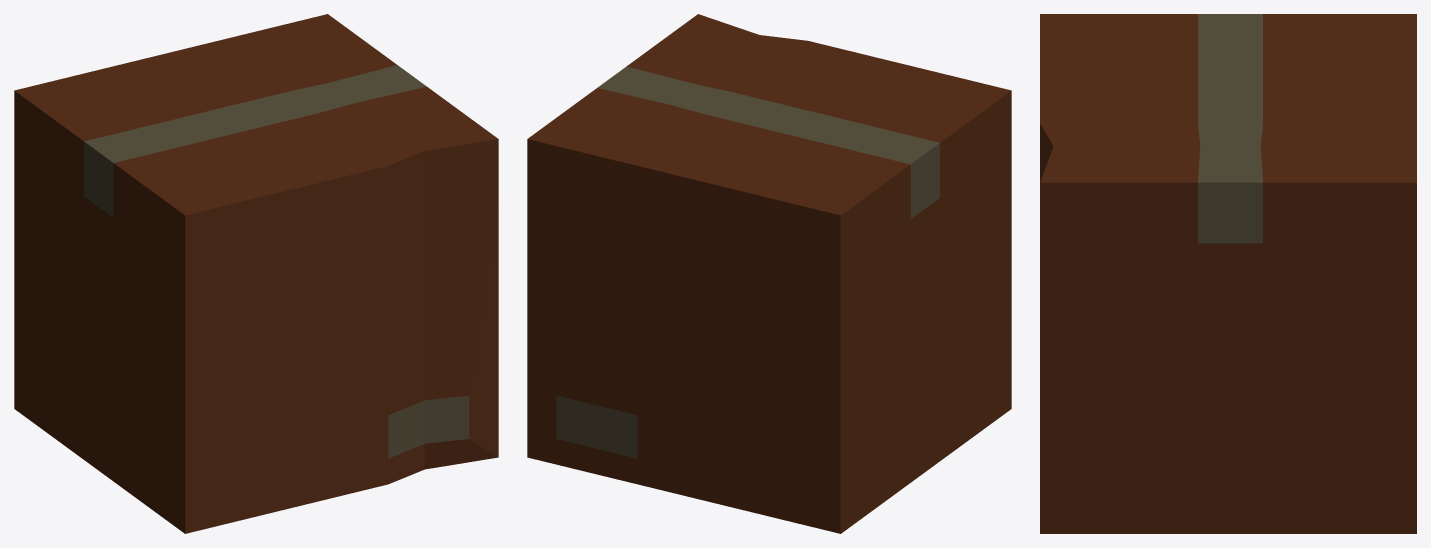
The model's file is CardboardBoxes_2.obj.
The picture shows the model from 3 angles, left to right: view 1: azimuth 30°, elevation 25°; view 2: azimuth 150°, elevation 25°; view 3: azimuth 270°, elevation 25°; orthographic projection. The views are drawn at different scales.
Parts seen in each view (by area): view 1: CardboardBoxes_2_Cube.059; view 2: CardboardBoxes_2_Cube.059; view 3: CardboardBoxes_2_Cube.059.
Part boxes in pixels (x1,y1,x2,y2): CardboardBoxes_2_Cube.059: (14, 14, 498, 533); CardboardBoxes_2_Cube.059: (527, 14, 1011, 533); CardboardBoxes_2_Cube.059: (1040, 14, 1416, 533).
Bounding box in the file's own units: 0.9755 × 0.9473 × 0.9207.
